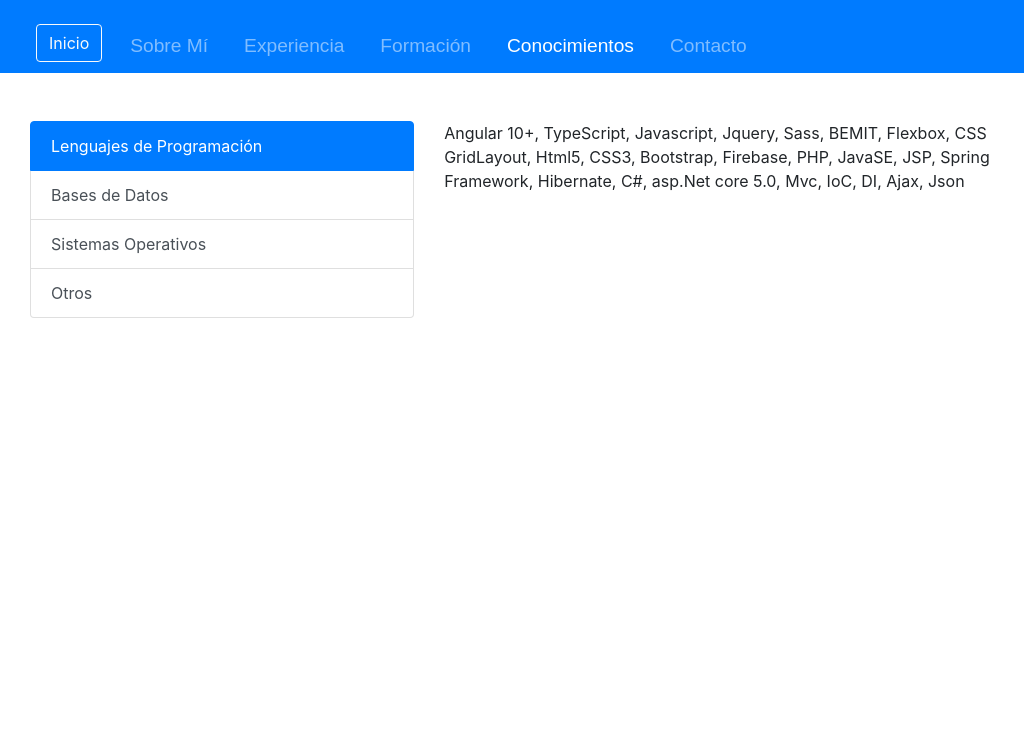
Segundo Test › Prueba Experiencia
Click the link "Experiencia": (294, 46) [244,35,344,56]
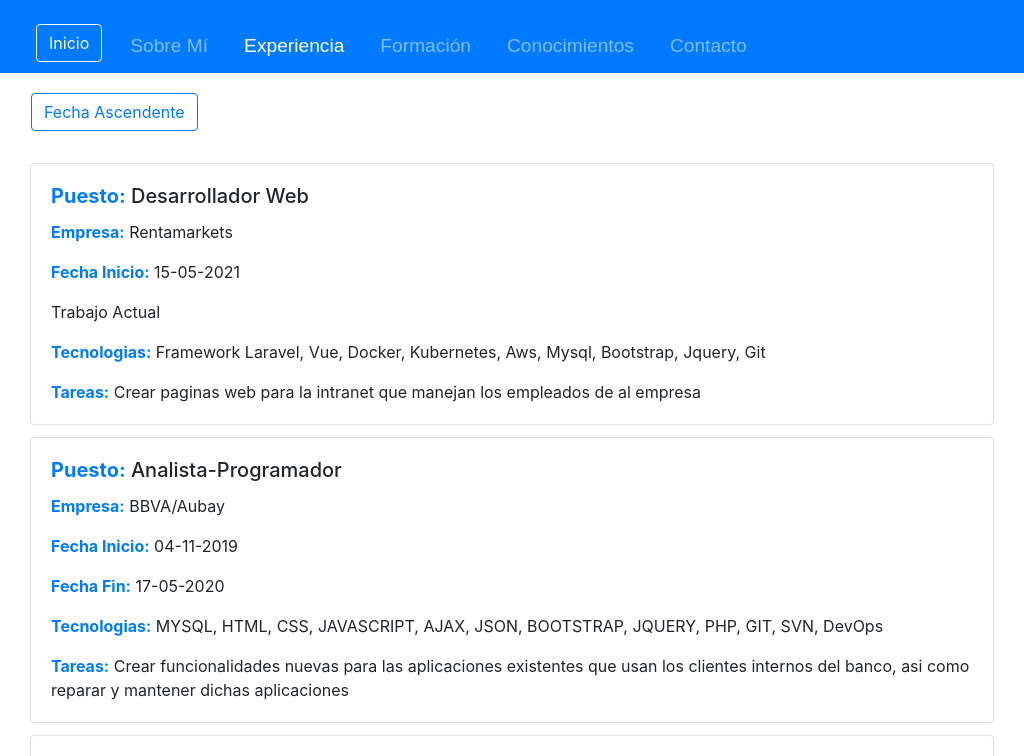
Click the button "Fecha Ascendente": (115, 112) [31,93,198,131]
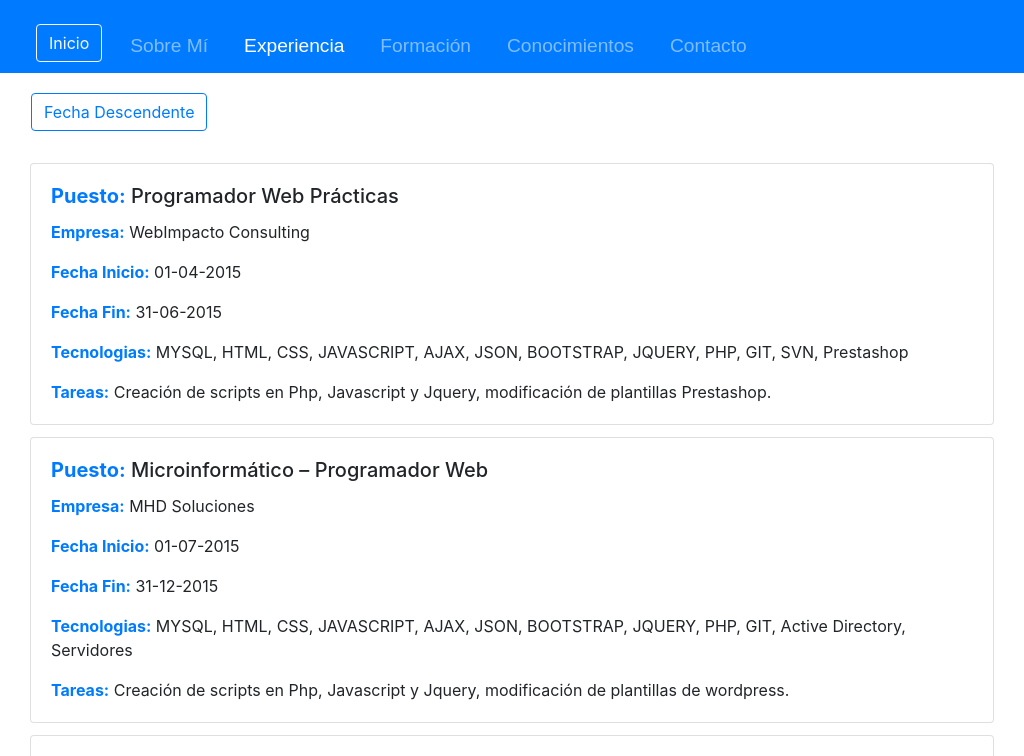
Expected: the button "Fecha Descendente" is shown, [31,93,208,131]
